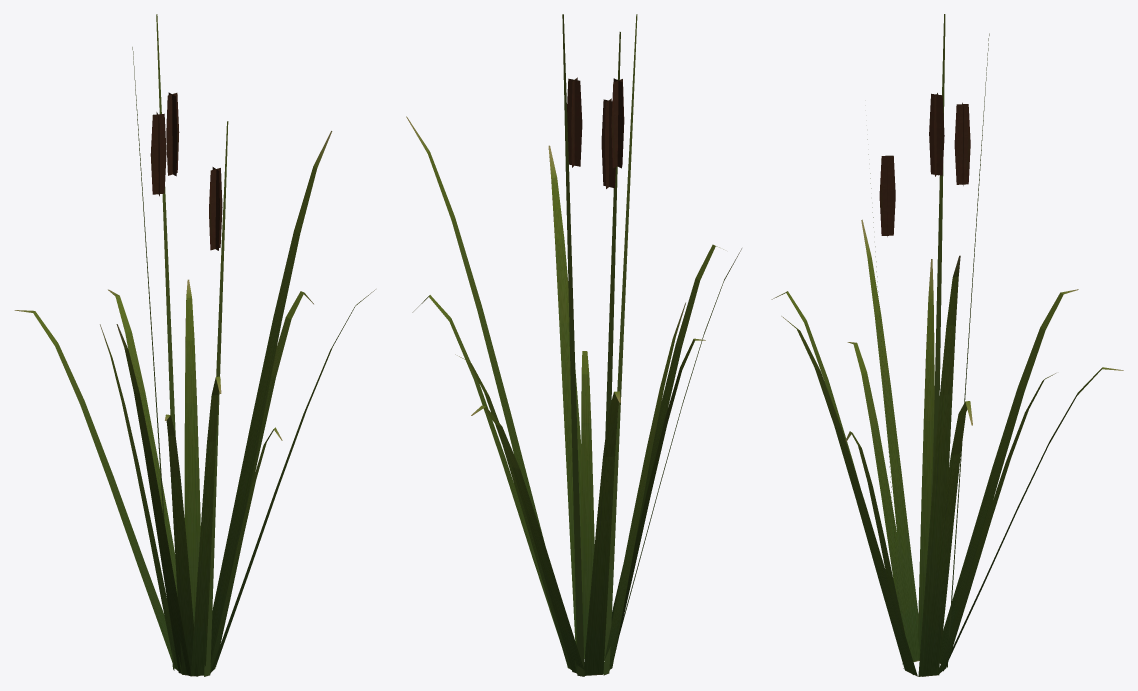
The model's file is reed.glb.
3 renders of one model, left to right at view 1: azimuth 30°, elevation 25°; view 2: azimuth 150°, elevation 25°; view 3: azimuth 270°, elevation 25°, orthographic. The views are drawn at different scales.
Visible parts, largest first — view 1: reed; view 2: reed; view 3: reed.
Part boxes in pixels (x1=…): reed: x1=14, y1=14, x2=375, y2=676; reed: x1=406, y1=14, x2=741, y2=676; reed: x1=771, y1=14, x2=1123, y2=676.
Bounding box in the file's own units: 0.8278 × 1.89 × 0.9546.
Materials: 1 (1 with a texture image).
